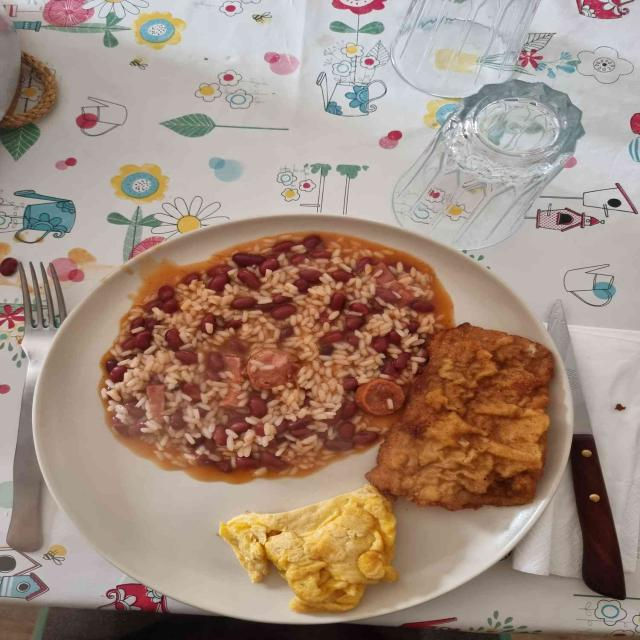black bean: (319, 292, 384, 356), (209, 383, 274, 447), (120, 285, 180, 352), (232, 242, 291, 290), (370, 330, 412, 376), (230, 292, 299, 320), (163, 329, 198, 366), (289, 236, 329, 267), (196, 312, 241, 336), (229, 341, 250, 380), (207, 264, 232, 294), (291, 269, 320, 294), (204, 352, 228, 380), (379, 288, 407, 307), (336, 400, 357, 421), (105, 360, 125, 381), (240, 451, 265, 467), (180, 382, 200, 402), (408, 298, 433, 312), (279, 324, 294, 342), (181, 274, 200, 286), (331, 270, 351, 280), (320, 311, 334, 325), (343, 380, 357, 393), (215, 460, 230, 472), (265, 459, 284, 468), (171, 419, 184, 429)
chorizo: (239, 349, 299, 390), (355, 378, 404, 416)
cup: (393, 80, 583, 252), (391, 0, 539, 97)
fork: (8, 309, 57, 551)
garbage: (570, 326, 640, 574), (510, 465, 582, 580)
knife: (547, 301, 625, 600)
plate: (32, 214, 573, 624)
rice: (99, 232, 452, 483)
scrambled eggs: (220, 485, 397, 612)
steak: (366, 324, 553, 511)
